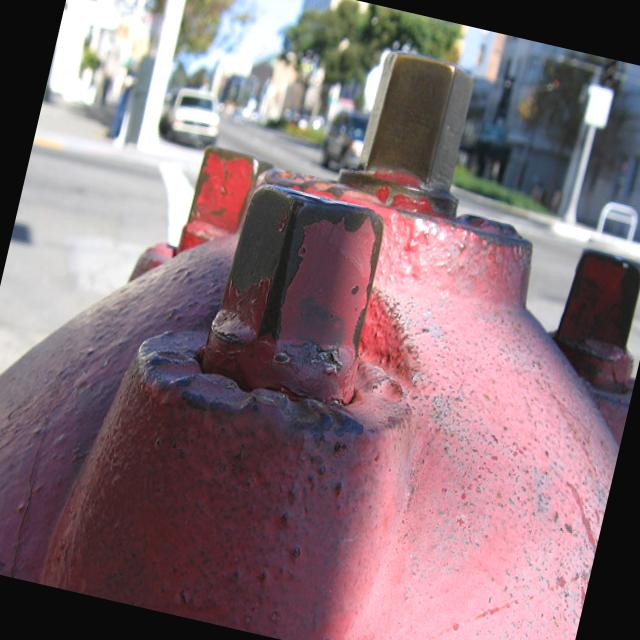Vehicle: (154, 82, 227, 150), (318, 108, 370, 176)
